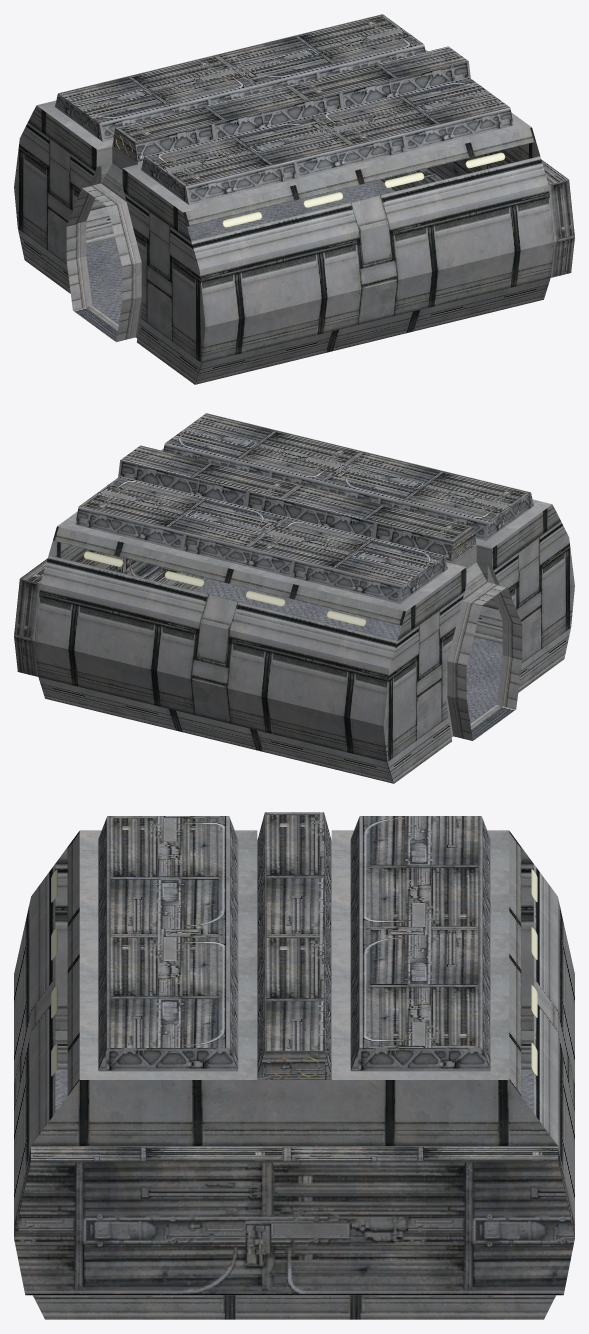
File: ykl37r_r8_storage_mesh_storage.fbx
3 views of the same model, one above another, from view 1: azimuth 30°, elevation 25°; view 2: azimuth 150°, elevation 25°; view 3: azimuth 270°, elevation 25° (orthographic). The views are drawn at different scales.
Visible parts, largest first — view 1: mesh_node; view 2: mesh_node; view 3: mesh_node.
Boxes of the visible parts, bbox=[...] form: mesh_node: bbox=[14, 14, 574, 384]; mesh_node: bbox=[14, 413, 574, 783]; mesh_node: bbox=[14, 812, 574, 1319].
Size of the model in its own units: 9.38 by 4.27 by 8.08.
